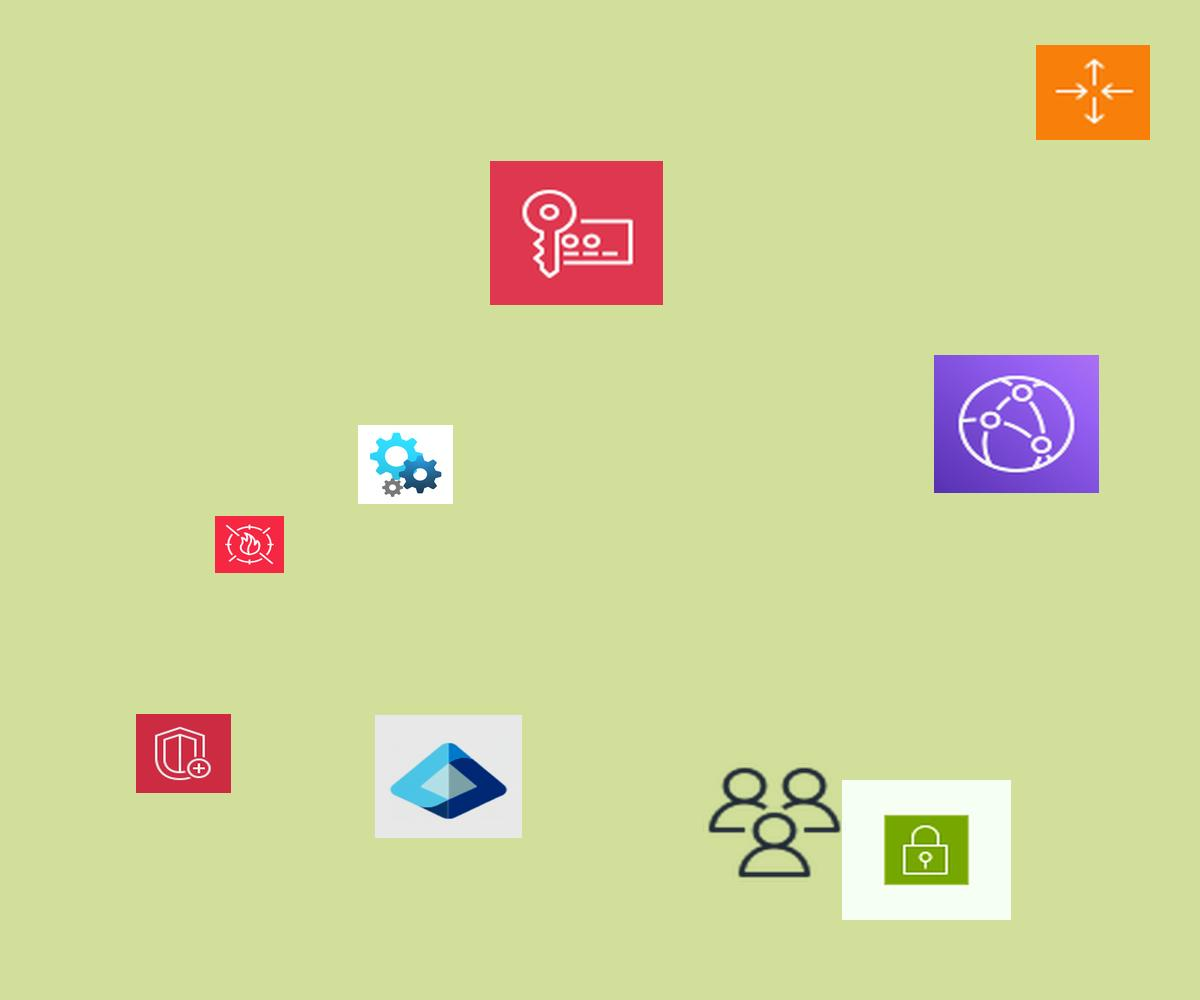AWS-CloudFront: (934, 355, 1099, 493)
AWS-Key-Management-Service: (490, 161, 663, 305)
AWS-Public-subnet: (842, 780, 1011, 920)
AWS-Res_Users: (703, 763, 846, 882)
AWS-Scaling-group: (1036, 45, 1150, 140)
AWS-Shield: (136, 714, 231, 793)
AWS-WAF: (215, 516, 284, 573)
Azure_api: (358, 425, 453, 504)
Azure_microsoft_entra: (375, 715, 522, 838)
